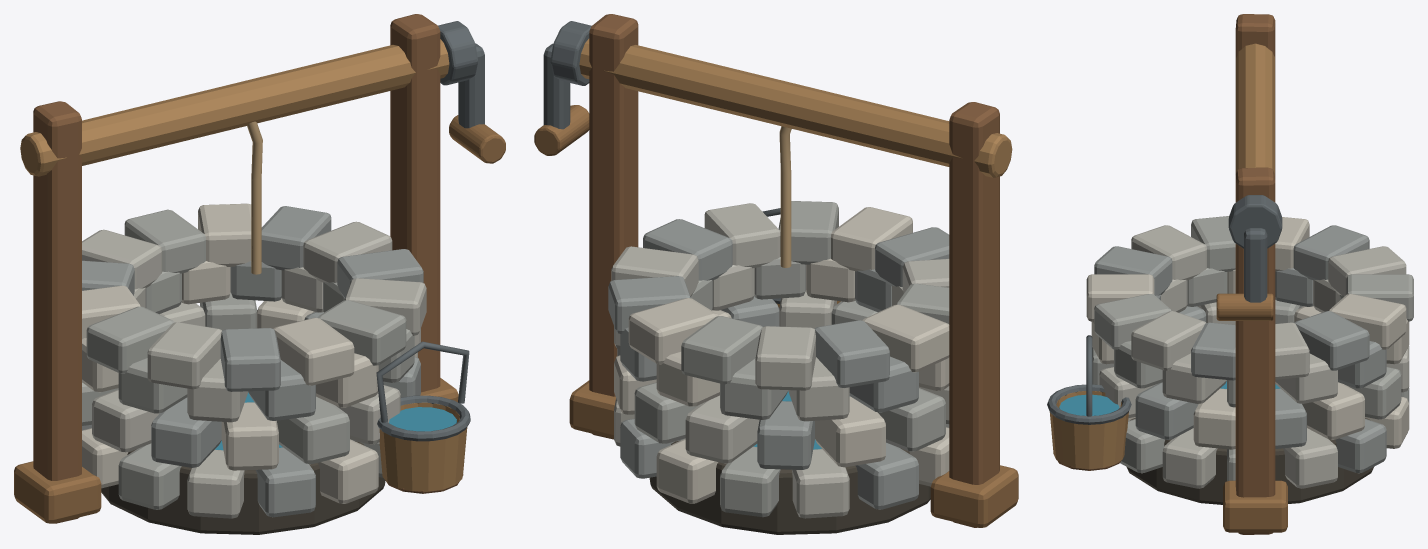
File: poco_balde.glb
3 renders of one model, left to right at view 1: azimuth 30°, elevation 25°; view 2: azimuth 150°, elevation 25°; view 3: azimuth 270°, elevation 25°, orthographic. The views are drawn at different scales.
Visible parts, largest first — view 1: Poço | Madeira 0, Poço | Pedra cinza 1, Poço | Pedra cinza 0, Poço | Pedra cinza 2, Poço | Pedra cinza 3, Poço | Madeira 1, Poço | Ferro escuro, Sombra do poço, Poço | Madeira 2, Corda enrolada e pendente, Poço | Água no fundo; view 2: Poço | Madeira 0, Poço | Pedra cinza 2, Poço | Pedra cinza 3, Poço | Pedra cinza 1, Poço | Pedra cinza 0, Poço | Madeira 1, Poço | Madeira 2, Sombra do poço, Poço | Ferro escuro, Corda enrolada e pendente; view 3: Poço | Pedra cinza 1, Poço | Pedra cinza 2, Poço | Pedra cinza 0, Poço | Pedra cinza 3, Poço | Madeira 0, Poço | Madeira 1, Poço | Ferro escuro, Poço | Madeira 2, Sombra do poço, Poço | Água no fundo.
Boxes of the visible parts, x1,y1,x2,y2 form: Poço | Madeira 0: (33,14,463,523); Poço | Pedra cinza 1: (82,221,426,518); Poço | Pedra cinza 0: (82,209,414,509); Poço | Pedra cinza 2: (82,206,423,517); Poço | Pedra cinza 3: (82,203,417,503); Poço | Madeira 1: (20,39,467,491); Poço | Ferro escuro: (376,21,484,441); Sombra do poço: (101,441,385,534); Poço | Madeira 2: (14,115,505,523); Corda enrolada e pendente: (247,121,262,274); Poço | Água no fundo: (215,392,456,450); Poço | Madeira 0: (589,14,999,527); Poço | Pedra cinza 2: (608,219,949,509); Poço | Pedra cinza 3: (614,207,949,503); Poço | Pedra cinza 1: (611,203,949,518); Poço | Pedra cinza 0: (634,201,949,517); Poço | Madeira 1: (579,38,1012,307); Poço | Madeira 2: (534,105,1018,527); Sombra do poço: (649,440,930,534); Poço | Ferro escuro: (543,21,780,303); Corda enrolada e pendente: (779,126,791,267); Poço | Pedra cinza 1: (1099,225,1409,488); Poço | Pedra cinza 2: (1094,225,1386,473); Poço | Pedra cinza 0: (1092,216,1413,481); Poço | Pedra cinza 3: (1086,217,1409,449); Poço | Madeira 0: (1058,14,1275,534); Poço | Madeira 1: (1049,43,1274,469); Poço | Ferro escuro: (1047,195,1282,424); Poço | Madeira 2: (1216,293,1287,532); Sombra do poço: (1126,418,1373,504); Poço | Água no fundo: (1059,381,1280,415).
Size of the model in its own units: 1.78 by 1.52 by 1.41.
